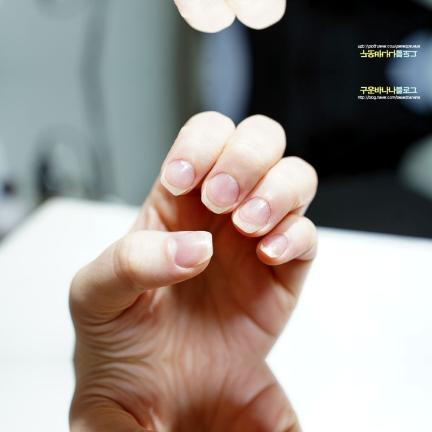Nail: (202, 172, 240, 213), (174, 230, 213, 267), (232, 197, 271, 233), (160, 159, 196, 195), (260, 234, 288, 257)
